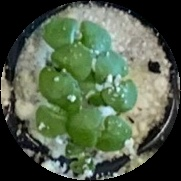Basil: (38, 44, 92, 101), (68, 105, 129, 151), (46, 17, 119, 55), (38, 86, 80, 137), (98, 56, 136, 112)
